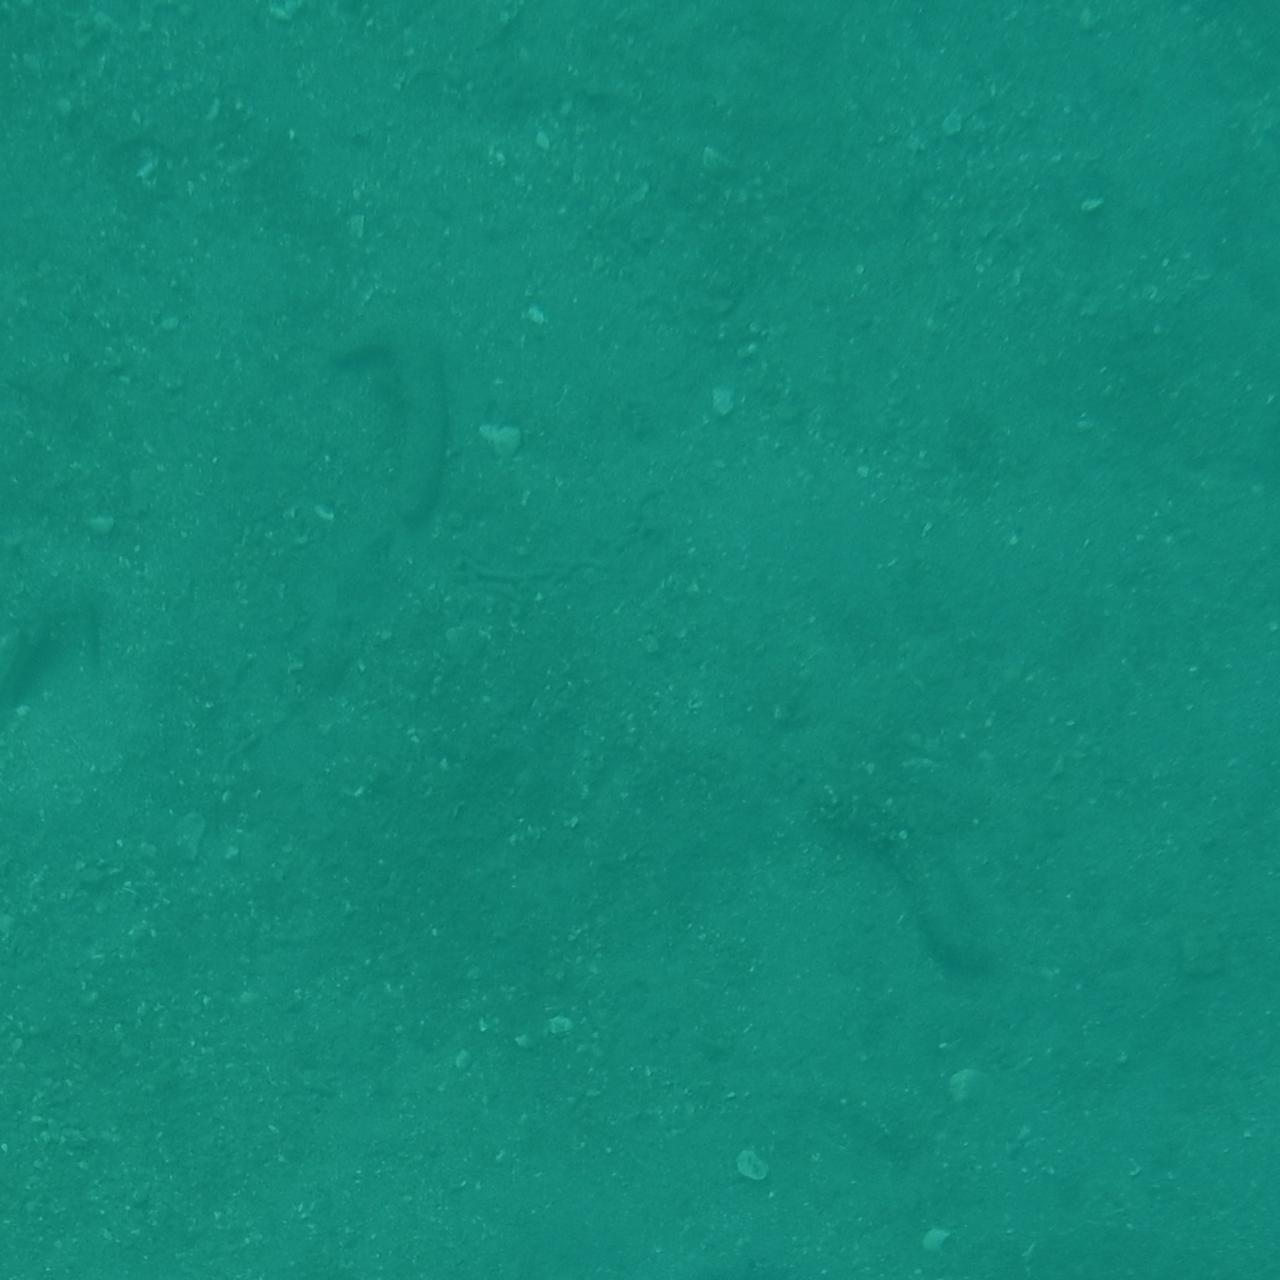Holothuria tubulosa: (770, 740, 1010, 972), (309, 319, 470, 531)
